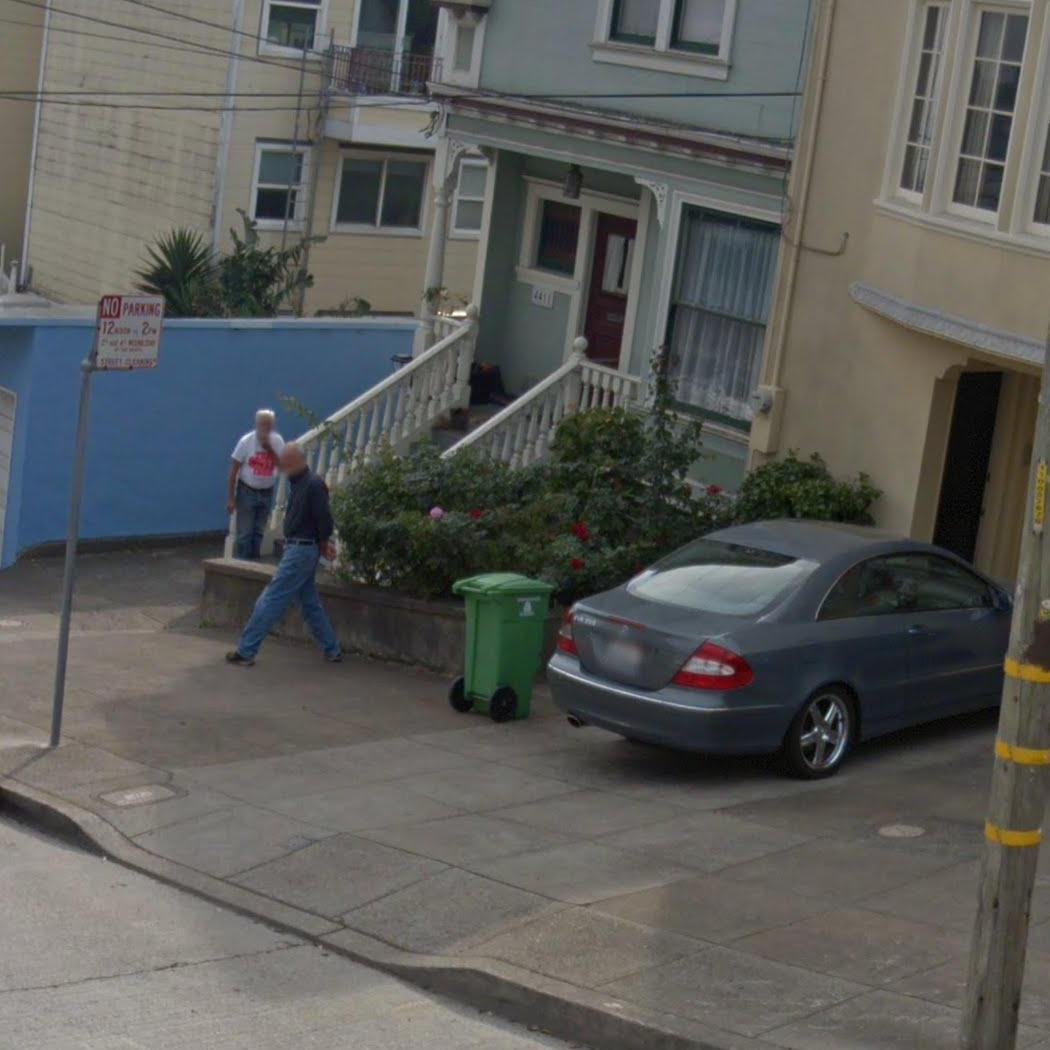No Parking: (91, 292, 166, 372)
